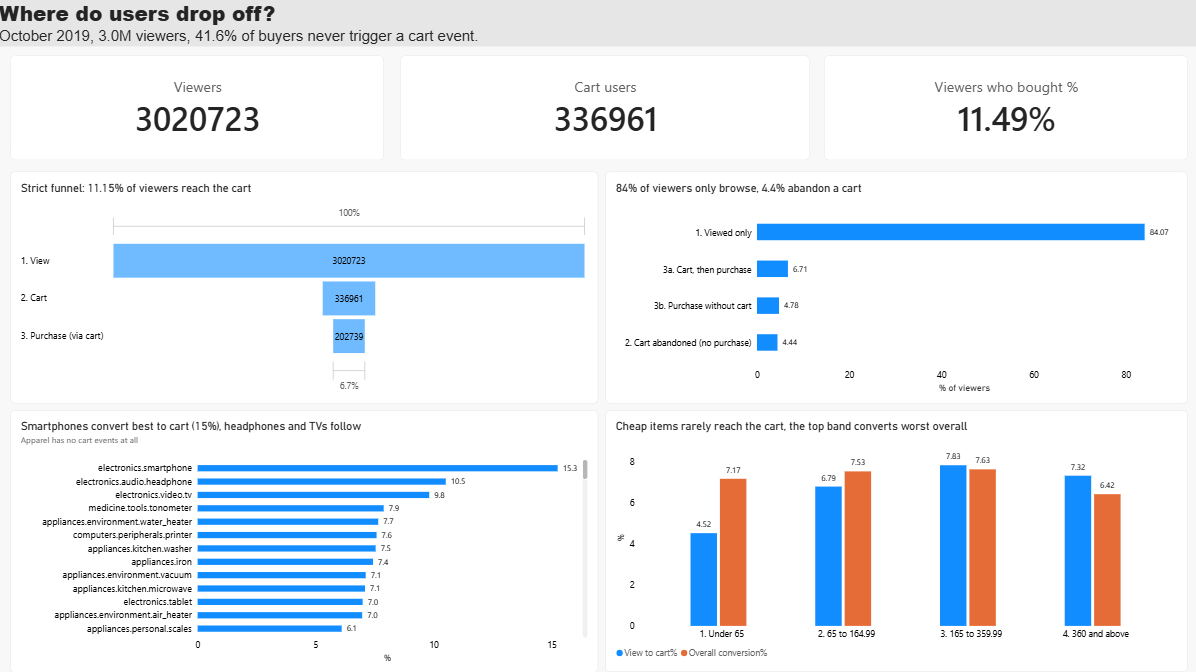

This screenshot's page, from the dashboard's own definition file:
{"tool":"powerbi","page":{"name":"1-Funnel","canvas":[1920,1080],"ordinal":0},"visuals":[{"type":"textbox","box":[0,0,1920.1,76],"z":0},{"type":"cardVisual","fields":{"Data":["v_overall_funnel.Viewers"]},"box":[18.1,90.5,599,168.3],"z":1000},{"type":"cardVisual","fields":{"Data":["v_overall_funnel.Cart users"]},"box":[642.4,90.5,655.1,168.3],"z":2000},{"type":"cardVisual","fields":{"Data":["v_overall_funnel.Viewers who bought %"]},"box":[1319.2,90.5,582.7,168.3],"z":3000},{"type":"funnel","title":"Strict funnel: 11.15% of viewers reach the cart","fields":{"Category":["v_overall_funnel.funnel_stage"],"Y":["Sum(v_overall_funnel.users)"]},"box":[18.1,275.1,941,371],"z":4000},{"type":"clusteredBarChart","title":"84% of viewers only browse, 4.4% abandon a cart","fields":{"Category":["v_user_paths.user_path"],"Y":["Sum(v_user_paths.pct_of_viewers)"]},"box":[970,275.1,932,371],"z":5000},{"type":"clusteredBarChart","title":"Smartphones convert best to cart (15%), headphones and TVs follow","fields":{"Category":["v_funnel_by_category.category_code"],"Y":["Sum(v_funnel_by_category.view_to_cart_pct)"]},"box":[18.1,658.7,941,421.7],"z":6000},{"type":"clusteredColumnChart","title":"Cheap items rarely reach the cart, the top band converts worst overall","fields":{"Category":["v_funnel_by_price_band.price_band"],"Y":["Sum(v_funnel_by_price_band.view_to_cart_pct)","Sum(v_funnel_by_price_band.overall_conversion_pct)"]},"box":[970,658.7,932,419.8],"z":7000}]}

Visuals, with their boxes in screenshot pixels (x1, y1, x2, y2), scaled from the page's 1920x1080 canvas onto the 1196x672 screenshot:
textbox: (x1=0, y1=0, x2=1195, y2=47)
cardVisual - v_overall_funnel.Viewers: (x1=11, y1=56, x2=384, y2=161)
cardVisual - v_overall_funnel.Cart users: (x1=400, y1=56, x2=808, y2=161)
cardVisual - v_overall_funnel.Viewers who bought %: (x1=822, y1=56, x2=1185, y2=161)
"Strict funnel: 11.15% of viewers reach the cart" funnel: (x1=11, y1=171, x2=597, y2=402)
"84% of viewers only browse, 4.4% abandon a cart" clusteredBarChart: (x1=604, y1=171, x2=1185, y2=402)
"Smartphones convert best to cart (15%), headphones and TVs follow" clusteredBarChart: (x1=11, y1=410, x2=597, y2=671)
"Cheap items rarely reach the cart, the top band converts worst overall" clusteredColumnChart: (x1=604, y1=410, x2=1185, y2=671)
